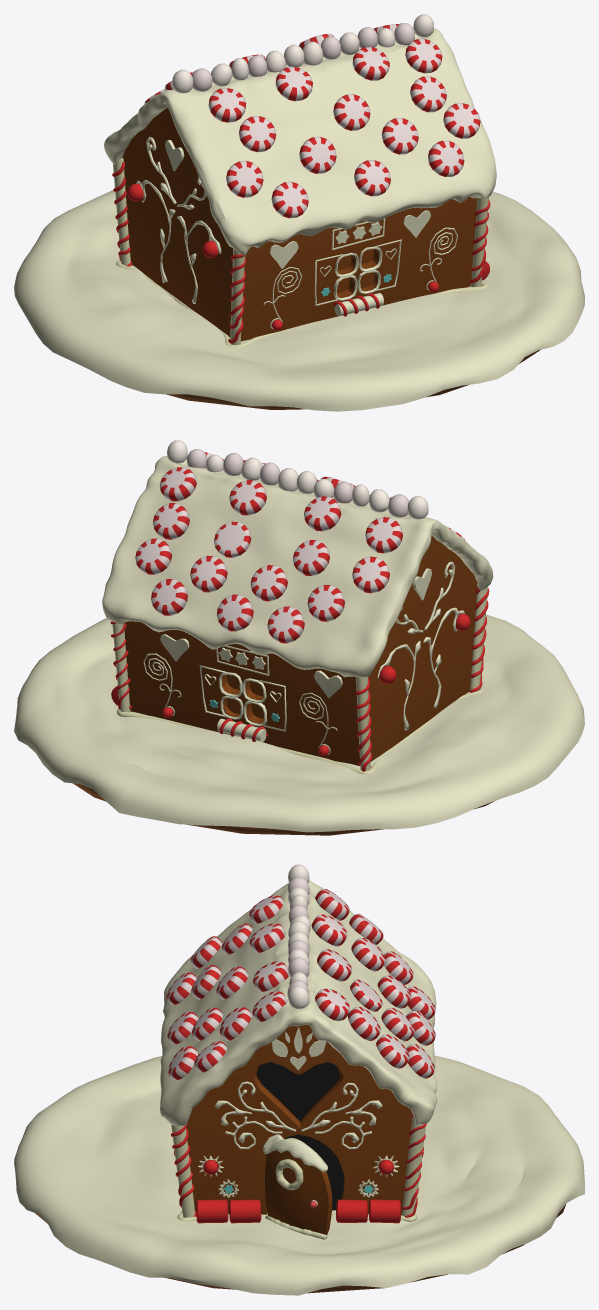
The model's file is uploads_files_5622189_HouseCake.glb.
3 views of the same model, one above another, from view 1: azimuth 30°, elevation 25°; view 2: azimuth 150°, elevation 25°; view 3: azimuth 270°, elevation 25° (orthographic).
Visible parts, largest first — view 1: Circle.001, Cube.001, Cube, Cylinder.013, Cylinder.012, Cylinder.011, Cylinder.014, Cylinder.017, Cylinder.016, Cylinder.009, Cylinder.010, Cylinder.015 (+13 smaller); view 2: Circle.001, Cube.001, Cube, Cylinder.031, Cylinder.030, Cylinder.037, Cylinder.028, Cylinder.027, Cylinder.029, Cylinder.026, Cylinder.032, Cylinder.038 (+15 smaller); view 3: Circle.001, Cube, Cube.001, Cube.004, Cylinder.023, Cylinder.024, Cube.006, Cube.010, Cube.012, Vert.015, Cylinder.034, Cylinder.036 (+29 smaller).
Boxes of the visible parts, bbox=[...] form: Circle.001: bbox=[14, 190, 584, 411]; Cube.001: bbox=[104, 28, 496, 257]; Cube: bbox=[122, 107, 477, 341]; Cylinder.013: bbox=[299, 136, 336, 173]; Cylinder.012: bbox=[226, 160, 263, 197]; Cylinder.011: bbox=[271, 181, 308, 218]; Cylinder.014: bbox=[381, 118, 418, 154]; Cylinder.017: bbox=[333, 94, 370, 130]; Cylinder.016: bbox=[239, 116, 276, 152]; Cylinder.009: bbox=[354, 160, 390, 196]; Cylinder.010: bbox=[428, 140, 464, 176]; Cylinder.015: bbox=[443, 103, 480, 138]; Circle.001: bbox=[14, 614, 584, 832]; Cube.001: bbox=[102, 456, 493, 677]; Cube: bbox=[124, 535, 477, 765]; Cylinder.031: bbox=[352, 556, 389, 593]; Cylinder.030: bbox=[307, 584, 344, 621]; Cylinder.037: bbox=[365, 517, 402, 553]; Cylinder.028: bbox=[267, 606, 304, 643]; Cylinder.027: bbox=[216, 594, 253, 631]; Cylinder.029: bbox=[190, 555, 227, 592]; Cylinder.026: bbox=[151, 579, 187, 615]; Cylinder.032: bbox=[250, 565, 287, 601]; Cylinder.038: bbox=[153, 503, 189, 539]; Circle.001: bbox=[14, 1055, 584, 1295]; Cube: bbox=[186, 1025, 412, 1215]; Cube.001: bbox=[160, 880, 437, 1126]; Cube.004: bbox=[265, 1150, 332, 1234]; Cylinder.023: bbox=[196, 1199, 400, 1223]; Cylinder.024: bbox=[229, 1199, 367, 1223]; Cube.006: bbox=[263, 1134, 327, 1171]; Cube.010: bbox=[402, 1116, 425, 1216]; Cube.012: bbox=[171, 1124, 194, 1217]; Vert.015: bbox=[225, 1116, 372, 1149]; Cylinder.034: bbox=[315, 988, 349, 1021]; Cylinder.036: bbox=[311, 914, 347, 946].
Size of the model in its own units: 649 by 316 by 646.
